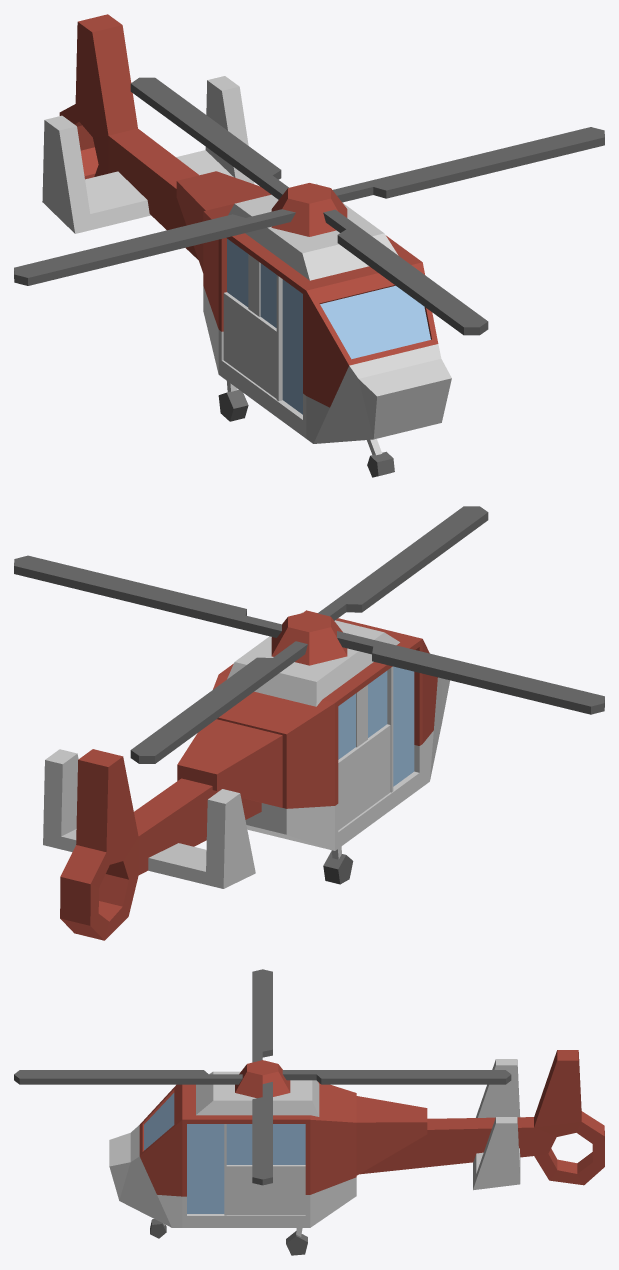
File: transport_air_006.fbx
The picture shows the model from 3 angles, top to bottom: view 1: azimuth 30°, elevation 25°; view 2: azimuth 150°, elevation 25°; view 3: azimuth 270°, elevation 25°; orthographic projection. The views are drawn at different scales.
Parts seen in each view (by area): view 1: transport_air_006; view 2: transport_air_006; view 3: transport_air_006.
Boxes of the visible parts, x1=… form: transport_air_006: x1=14, y1=14, x2=604, y2=477; transport_air_006: x1=14, y1=506, x2=604, y2=940; transport_air_006: x1=14, y1=969, x2=604, y2=1255.
Bounding box in the file's own units: 749 × 300 × 890.
